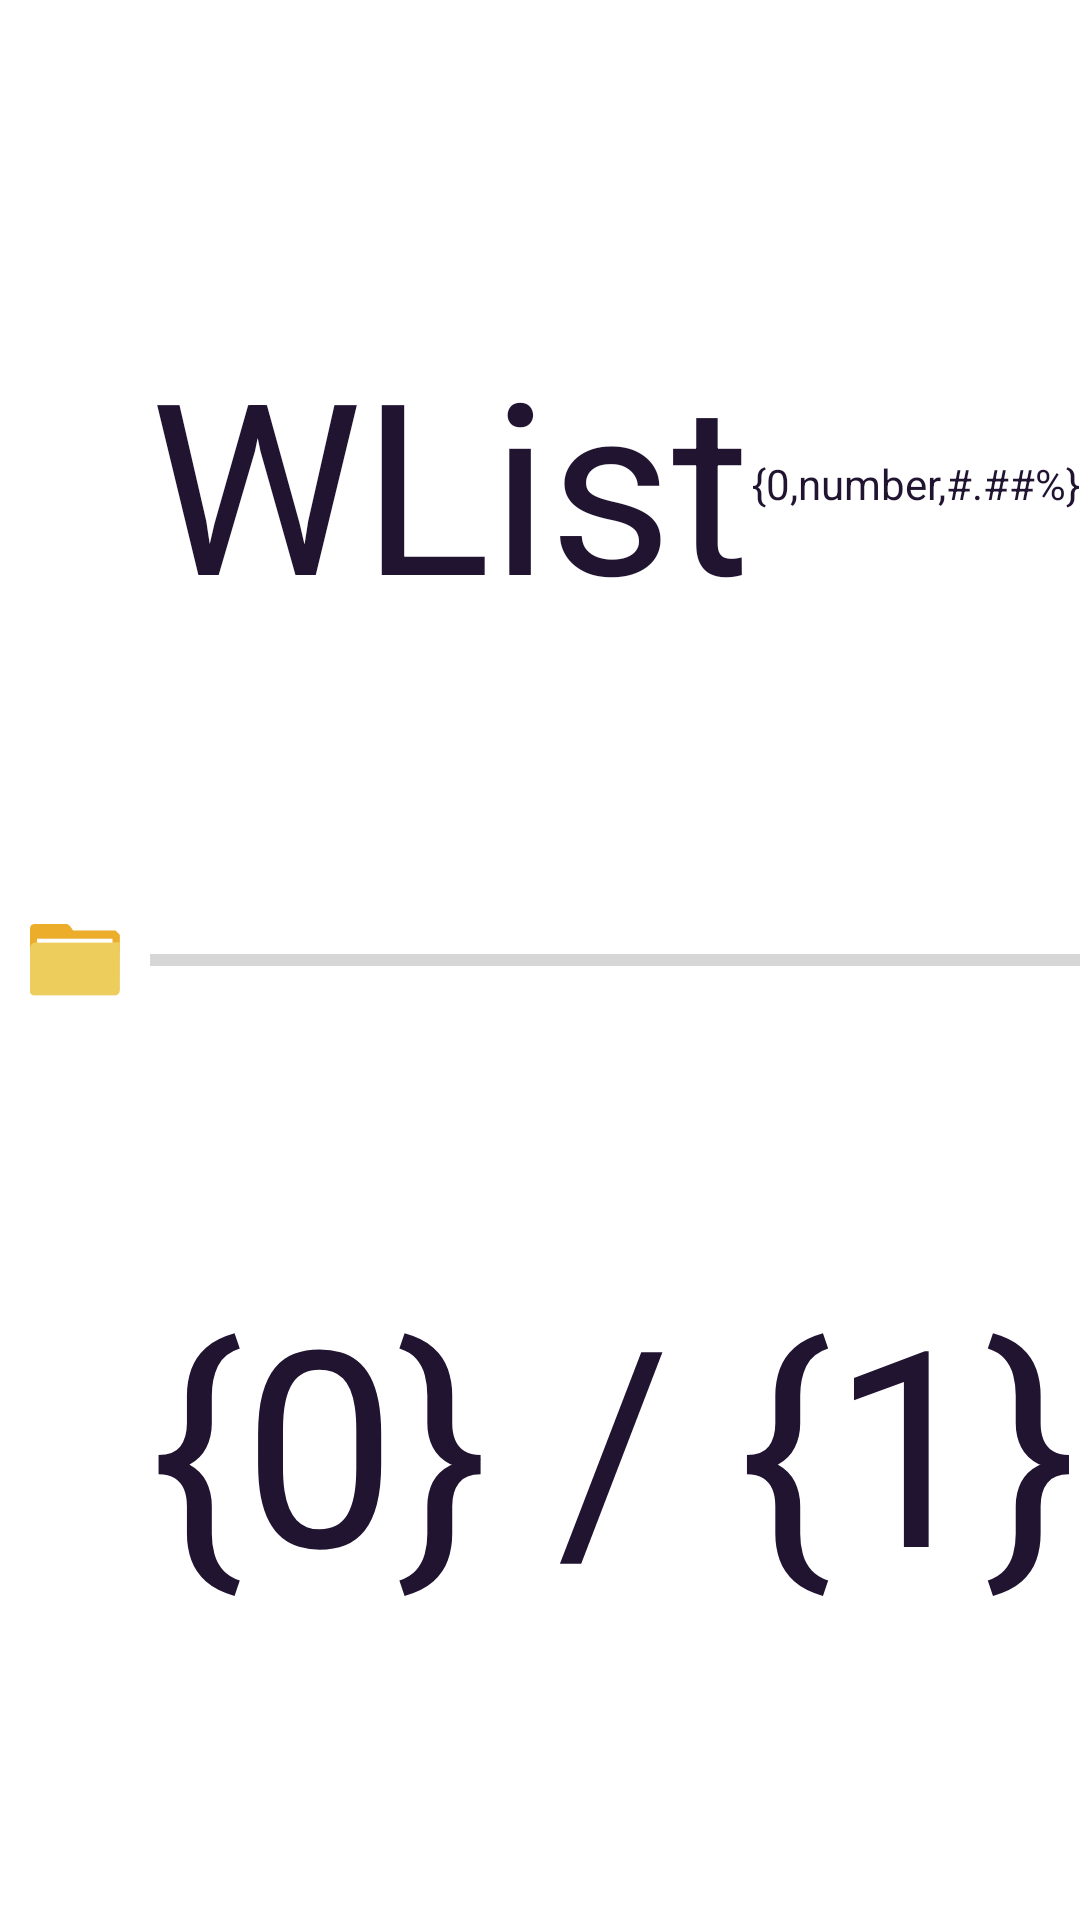

Where icons sit on this 1080px x 1920px app screen, as (x1, y1, x2, y2):
page file directory: (30, 924, 120, 996)
